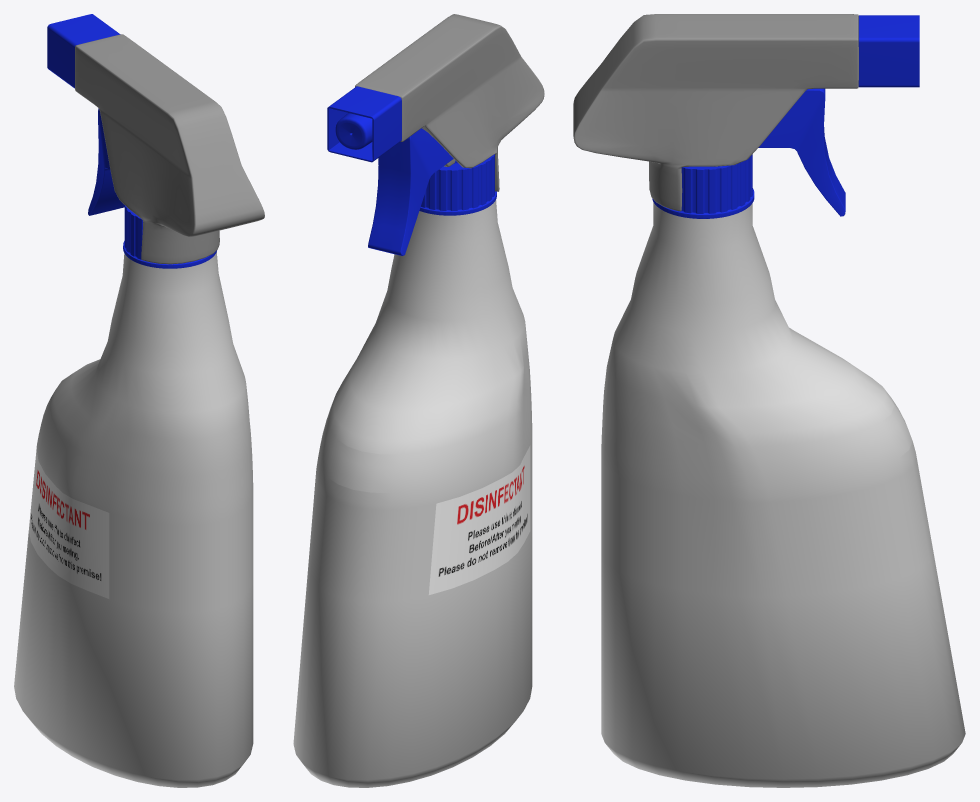
File: spray_blue.fbx
3 views of the same model, side by side, from view 1: azimuth 30°, elevation 25°; view 2: azimuth 150°, elevation 25°; view 3: azimuth 270°, elevation 25° (orthographic). The views are drawn at different scales.
Parts seen in each view (by area): view 1: Cylinder.016, Circle.009, Circle.006, Circle.008, Circle.010; view 2: Cylinder.016, Circle.009, Circle.008, Circle.006, Circle.010; view 3: Cylinder.016, Circle.009, Circle.006, Circle.008, Circle.010.
Part boxes in pixels (x1,y1,x2,y2): Cylinder.016: (14,252,253,787); Circle.009: (75,34,264,264); Circle.006: (47,14,120,88); Circle.008: (88,108,124,215); Circle.010: (123,205,216,268); Cylinder.016: (293,200,532,787); Circle.009: (355,14,544,191); Circle.008: (368,128,453,255); Circle.006: (327,86,401,162); Circle.010: (419,154,496,215); Cylinder.016: (601,202,965,787); Circle.009: (573,14,858,211); Circle.006: (858,15,919,87); Circle.008: (758,88,845,216); Circle.010: (652,154,754,218).
Bounding box in the file's own units: 6.46 × 24.43 × 11.84.
